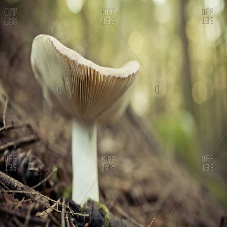mushroom: (28, 31, 143, 210)
